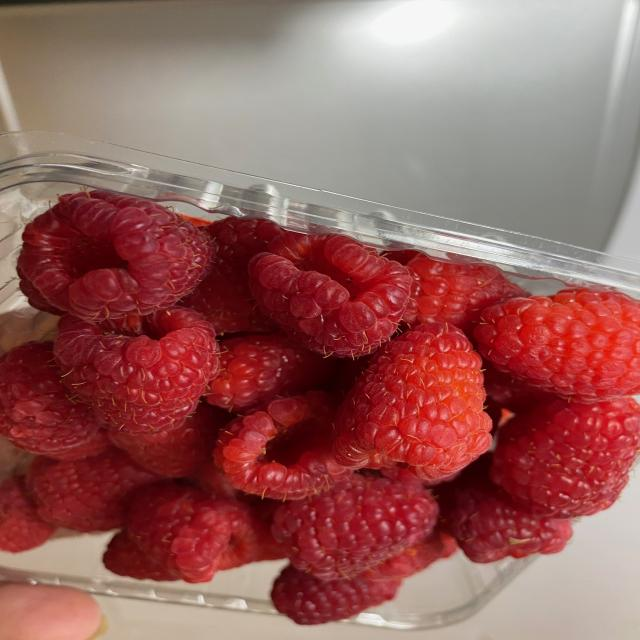Raspberry: (13, 314, 633, 570)
